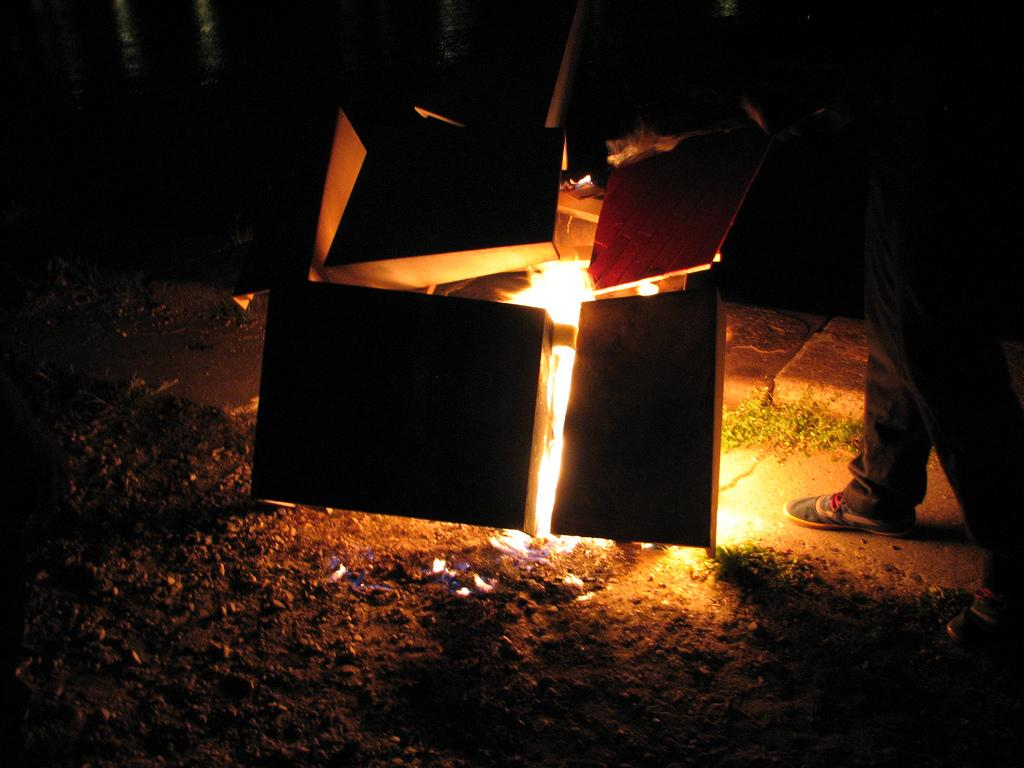fire: (524, 240, 594, 334), (544, 348, 566, 516)
